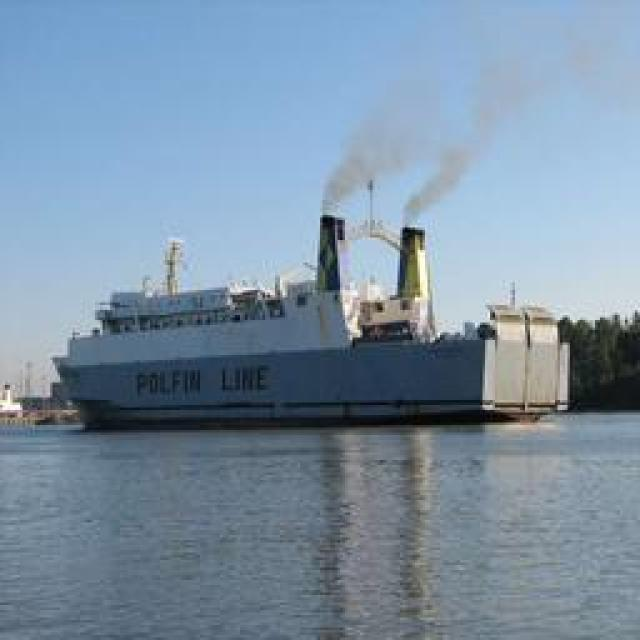CIV_Ship: (60, 152, 568, 416)
